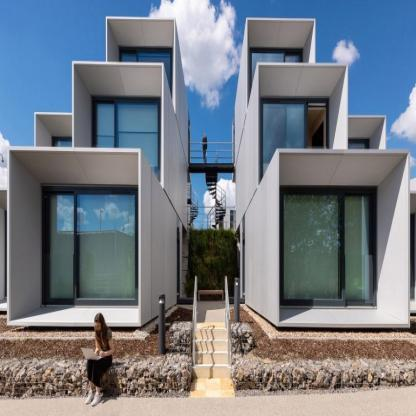Building Outline: (7, 17, 410, 328)
Dont: (168, 275, 253, 398), (81, 312, 115, 407), (158, 294, 165, 353), (234, 277, 240, 322), (202, 131, 208, 163)
Door: (42, 186, 73, 306), (345, 186, 376, 306), (92, 95, 114, 179), (308, 98, 329, 179), (285, 49, 303, 111), (119, 47, 136, 111)
Door Hole: (279, 154, 408, 324), (10, 151, 138, 321), (74, 65, 162, 184), (260, 66, 346, 183), (107, 19, 173, 116), (248, 20, 314, 117)
Facade: (7, 149, 410, 332)
Floor: (74, 64, 162, 186), (258, 102, 346, 186)
Floor Slab: (10, 186, 162, 193), (258, 186, 408, 193), (74, 96, 175, 103), (246, 96, 346, 103)
Glass Wall: (76, 195, 136, 301), (284, 193, 342, 299), (116, 101, 158, 179), (264, 104, 305, 179), (139, 50, 170, 111), (252, 53, 284, 111)
Ground Floor: (10, 193, 141, 328), (277, 193, 408, 324)
Top Floor: (246, 20, 315, 96), (107, 19, 175, 96)
Window: (51, 136, 72, 184), (348, 139, 369, 182)
Window Hole: (36, 115, 72, 184), (348, 118, 385, 182)
